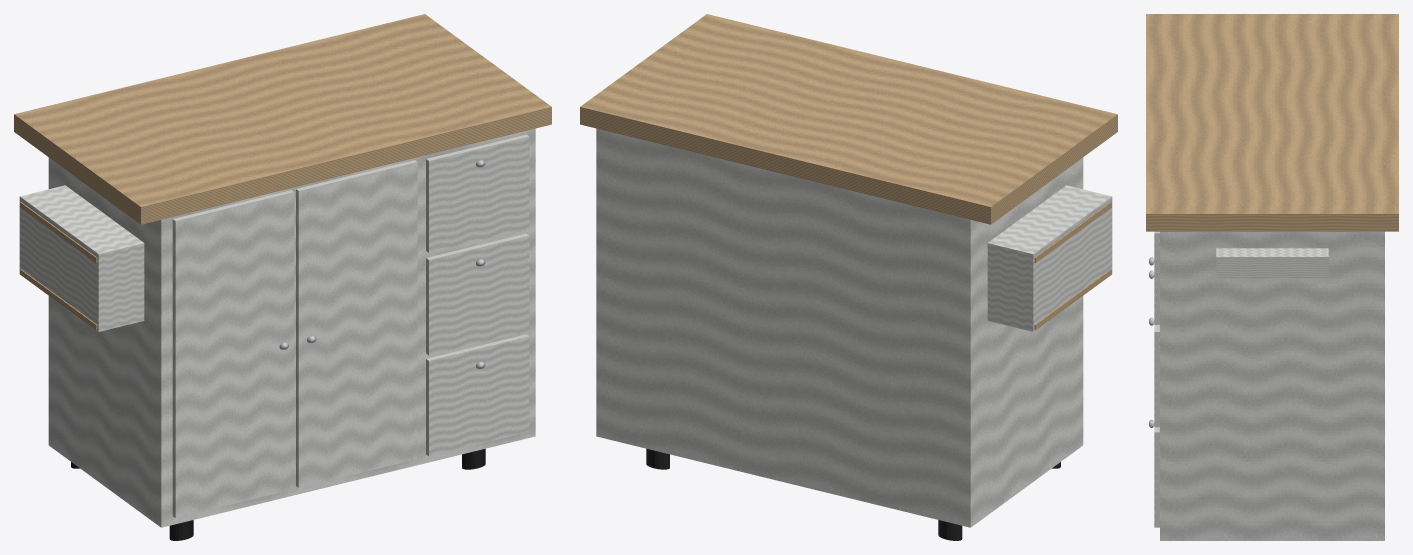
The picture shows the model from 3 angles, left to right: view 1: azimuth 30°, elevation 25°; view 2: azimuth 150°, elevation 25°; view 3: azimuth 270°, elevation 25°; orthographic projection.
Visible parts, largest first — view 1: 2 wood_top, 3 left_cabinet_door, 4 right_cabinet_door, 1 cabinet_body, 13 spice_rack_frame, 8 middle_drawer, 9 bottom_drawer, 7 top_drawer; view 2: 1 cabinet_body, 2 wood_top, 13 spice_rack_frame; view 3: 1 cabinet_body, 2 wood_top, 16 right_side_rack, 8 middle_drawer, 9 bottom_drawer, 7 top_drawer.
Part boxes in pixels (bbox=[...]): 2 wood_top: bbox=[14, 14, 551, 224]; 3 left_cabinet_door: bbox=[172, 190, 294, 518]; 4 right_cabinet_door: bbox=[296, 160, 417, 487]; 1 cabinet_body: bbox=[48, 128, 535, 527]; 13 spice_rack_frame: bbox=[19, 185, 144, 331]; 8 middle_drawer: bbox=[426, 233, 529, 355]; 9 bottom_drawer: bbox=[426, 334, 529, 456]; 7 top_drawer: bbox=[426, 134, 529, 252]; 1 cabinet_body: bbox=[596, 128, 1083, 527]; 2 wood_top: bbox=[580, 14, 1117, 224]; 13 spice_rack_frame: bbox=[987, 185, 1112, 331]; 1 cabinet_body: bbox=[1160, 231, 1384, 540]; 2 wood_top: bbox=[1146, 14, 1398, 231]; 16 right_side_rack: bbox=[1216, 248, 1328, 278]; 8 middle_drawer: bbox=[1154, 325, 1159, 427]; 9 bottom_drawer: bbox=[1154, 427, 1159, 527]; 7 top_drawer: bbox=[1154, 231, 1159, 324].
Bounding box in the file's own units: 1.3 × 1 × 0.65.
Materials: 4 (2 with a texture image).
